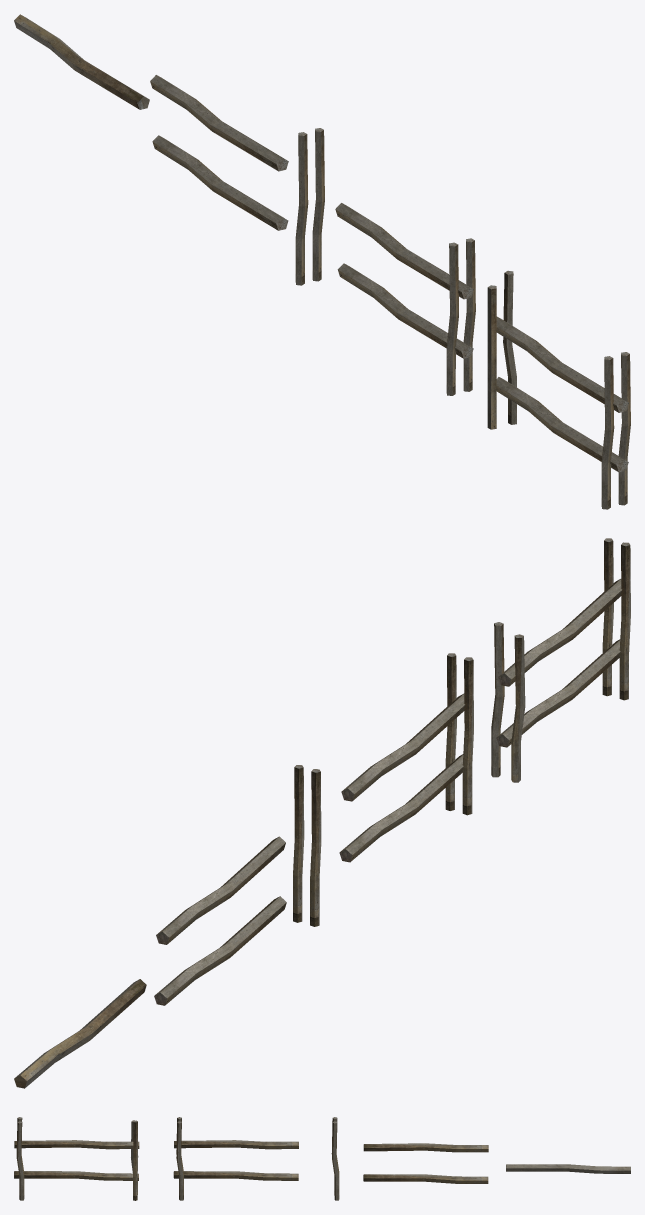
The model's file is wood_fence (1).glb.
3 renders of one model, top to bottom at view 1: azimuth 30°, elevation 25°; view 2: azimuth 150°, elevation 25°; view 3: azimuth 270°, elevation 25°, orthographic. The views are drawn at different scales.
Parts seen in each view (by area): view 1: Wood, Wood.001, Wood.003, Wood.002, Wood.004; view 2: Wood, Wood.001, Wood.003, Wood.002, Wood.004; view 3: Wood, Wood.001, Wood.003, Wood.004, Wood.002.
Boxes of the visible parts, bbox=[...] form: Wood: bbox=[487, 270, 630, 509]; Wood.001: bbox=[335, 203, 475, 395]; Wood.003: bbox=[150, 75, 288, 230]; Wood.002: bbox=[295, 128, 324, 285]; Wood.004: bbox=[14, 14, 149, 109]; Wood: bbox=[491, 538, 630, 782]; Wood.001: bbox=[339, 653, 473, 862]; Wood.003: bbox=[154, 836, 286, 1005]; Wood.002: bbox=[293, 765, 321, 926]; Wood.004: bbox=[14, 979, 146, 1088]; Wood: bbox=[14, 1117, 139, 1200]; Wood.001: bbox=[173, 1117, 298, 1200]; Wood.003: bbox=[363, 1143, 488, 1183]; Wood.004: bbox=[506, 1164, 630, 1173]; Wood.002: bbox=[331, 1117, 339, 1200].
Size of the model in its own units: 0.3921 by 1.85 by 13.34.
Materials: 1 (1 with a texture image).
